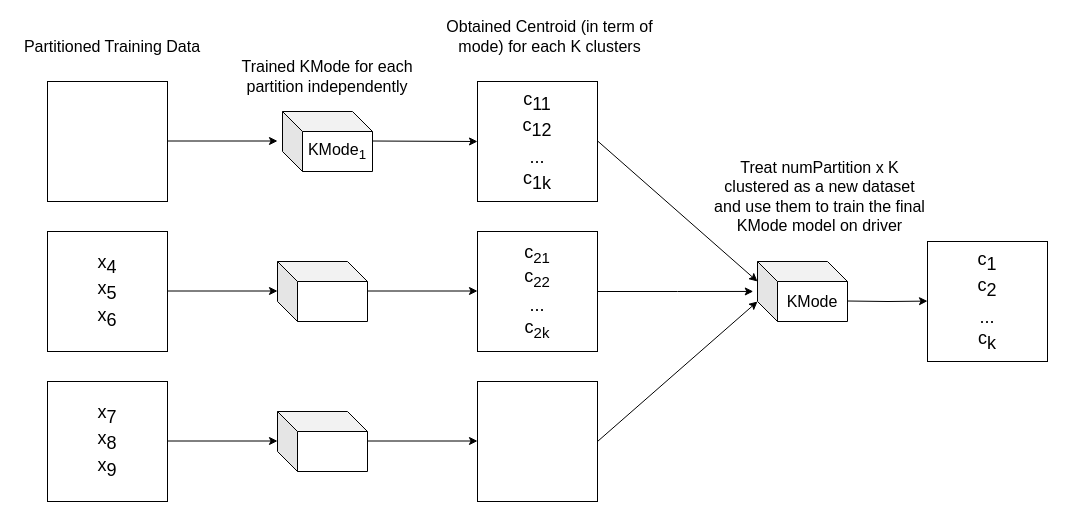
This 1065x519 diagram has some shape labels left out. Here are the shapes that lost their labels. From the top down, the centre of each, then its label:
At [107,141]: "x 1 x 2 x 3".
At [322,291]: "KMode 2".
At [322,441]: "KMode 3".
At [537,441]: "c 31 c 32 ... c 3k".
